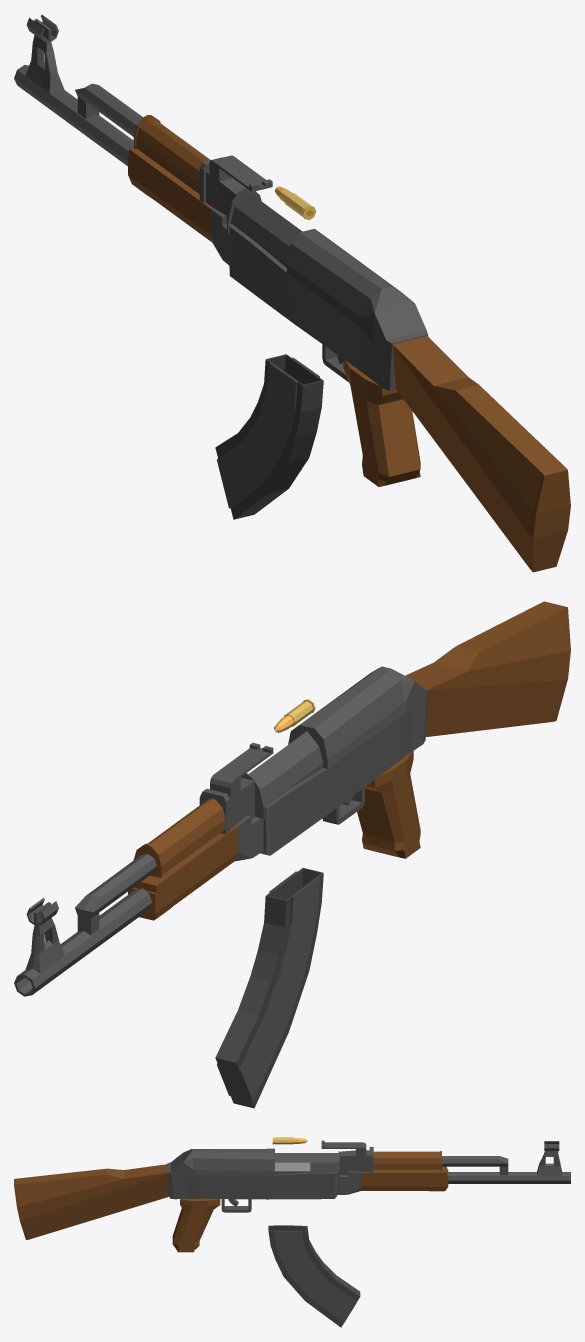
3 views of the same model, one above another, from view 1: azimuth 30°, elevation 25°; view 2: azimuth 150°, elevation 25°; view 3: azimuth 270°, elevation 25° (orthographic). The views are drawn at different scales.
Parts seen in each view (by area): view 1: Body, Magazine; view 2: Body, Magazine, Bullet; view 3: Body, Magazine.
Boxes of the visible parts, <box> form: Body: <box>14,15,570,572</box>; Magazine: <box>215,354,323,519</box>; Body: <box>14,601,570,996</box>; Magazine: <box>215,868,323,1108</box>; Bullet: <box>274,699,315,732</box>; Body: <box>14,1140,570,1252</box>; Magazine: <box>268,1225,360,1327</box>.
Size of the model in its own units: 0.218 by 1.64 by 4.41.
